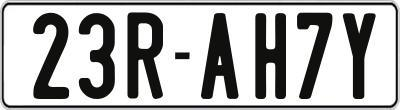2: (31, 11, 67, 100)
3: (76, 10, 118, 96)
7: (295, 11, 335, 99)
A: (198, 13, 238, 100)
H: (253, 11, 290, 98)
R: (126, 12, 165, 103)
Y: (343, 11, 381, 101)
